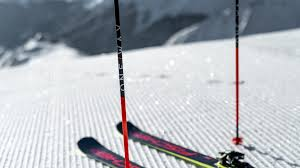skis: (79, 122, 251, 168)
